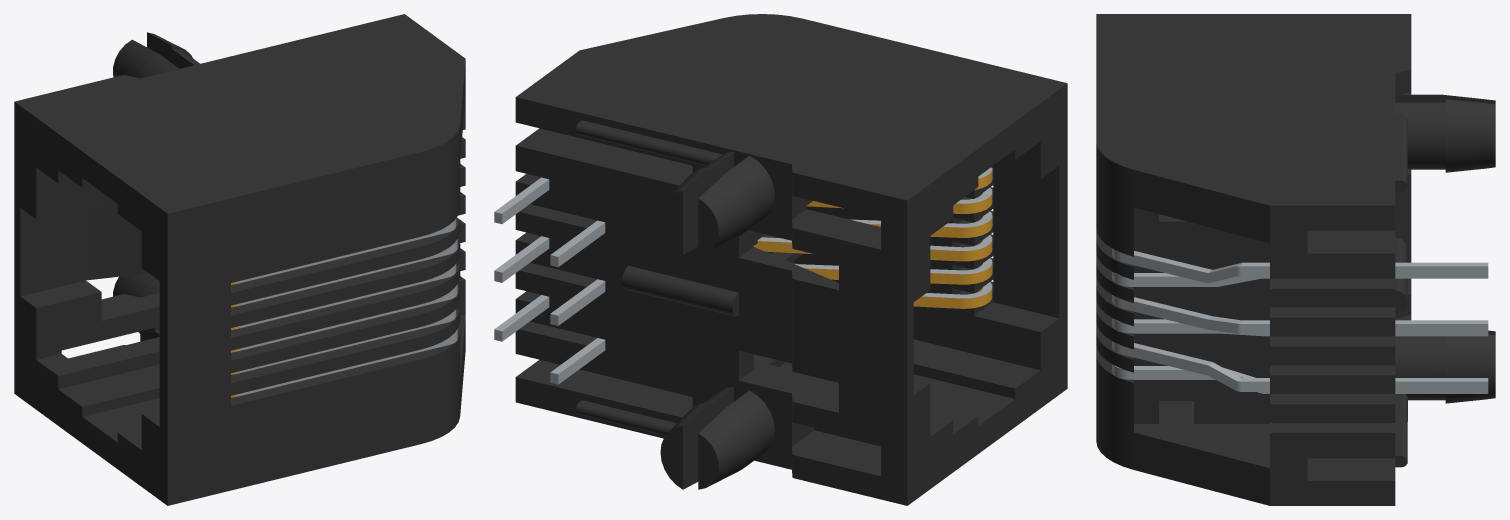
The model's file is RJ11 Horiz.obj.
The picture shows the model from 3 angles, left to right: view 1: azimuth 30°, elevation 25°; view 2: azimuth 150°, elevation 25°; view 3: azimuth 270°, elevation 25°; orthographic projection. The views are drawn at different scales.
Parts seen in each view (by area): view 1: Solid1, Solid1:1, Solid1:3, Solid1:5, Solid1:6, Solid1:2, Solid1:4; view 2: Solid1, Solid1:1, Solid1:4, Solid1:3, Solid1:5, Solid1:2, Solid1:6; view 3: Solid1, Solid1:5, Solid1:6, Solid1:4, Solid1:2, Solid1:1, Solid1:3.
Boxes of the visible parts, <box> form: Solid1: <box>14,14,465,505</box>; Solid1:1: <box>231,284,457,352</box>; Solid1:3: <box>231,329,457,397</box>; Solid1:5: <box>231,263,456,329</box>; Solid1:6: <box>231,218,456,284</box>; Solid1:2: <box>231,239,457,307</box>; Solid1:4: <box>231,309,456,374</box>; Solid1: <box>515,14,1067,505</box>; Solid1:1: <box>550,235,992,325</box>; Solid1:4: <box>494,258,992,341</box>; Solid1:3: <box>550,282,992,384</box>; Solid1:5: <box>494,211,992,282</box>; Solid1:2: <box>550,187,992,267</box>; Solid1:6: <box>494,167,992,223</box>; Solid1: <box>1096,14,1495,505</box>; Solid1:5: <box>1112,295,1488,334</box>; Solid1:6: <box>1112,248,1488,283</box>; Solid1:4: <box>1112,341,1488,391</box>; Solid1:2: <box>1112,272,1488,286</box>; Solid1:1: <box>1112,318,1488,336</box>; Solid1:3: <box>1112,364,1488,393</box>.
Size of the model in its own units: 18.1 by 13.37 by 15.93.
